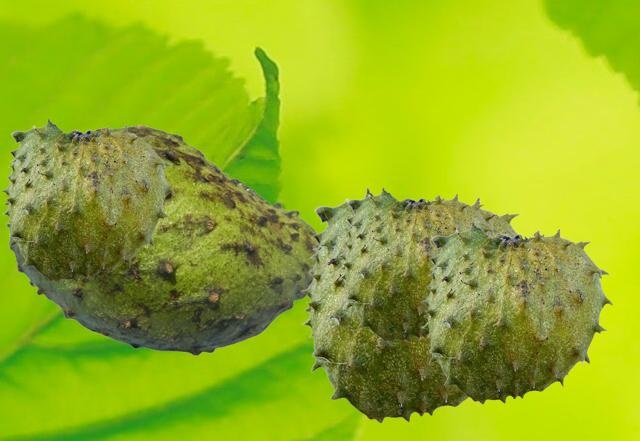guyabano: (6, 124, 318, 355), (300, 186, 521, 422), (420, 220, 612, 403), (1, 117, 174, 282), (338, 186, 500, 342)
